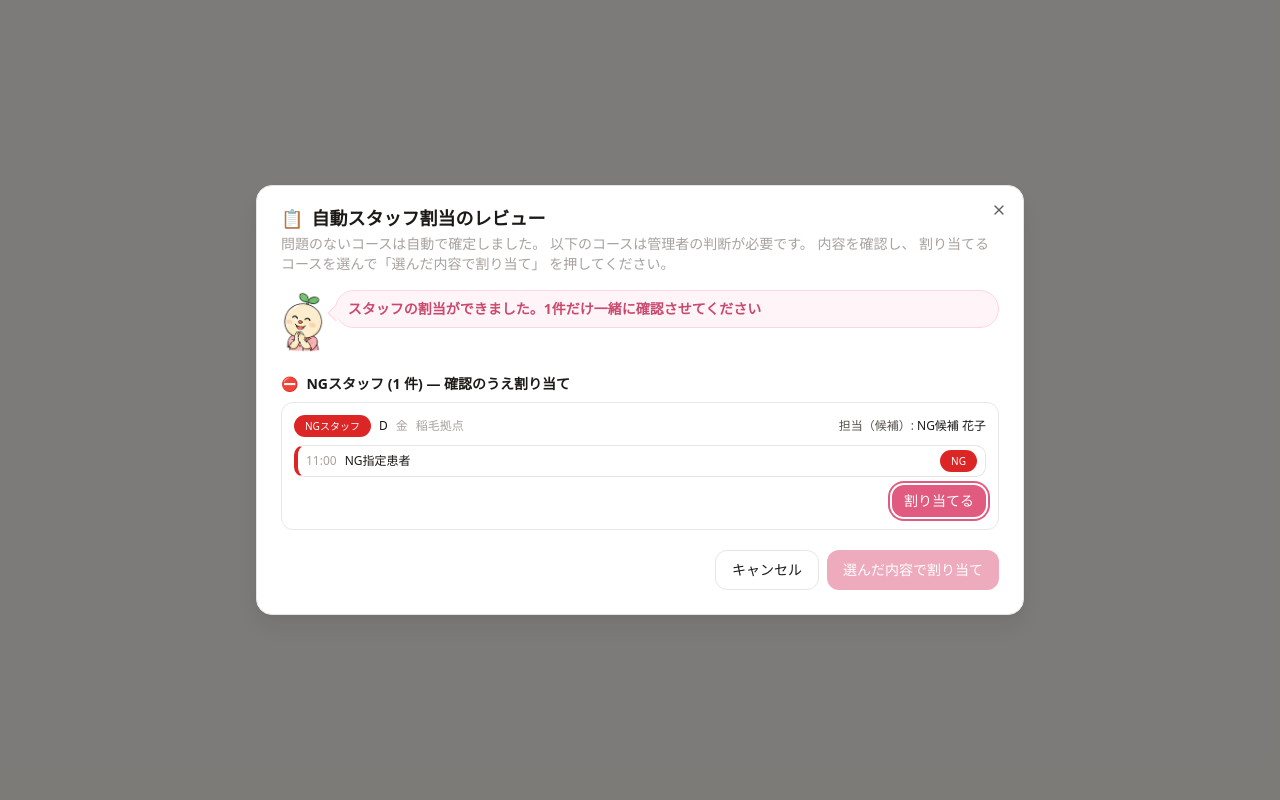
Test case: AssignWarningDialog — ⛔ NG スタッフセクション › ⛔ NG カードの also_violates に gender があると確認文言に性別も併記される
The image size is (1280, 800).
Click the button with test id "assign-review-ng-approve" at (939, 501), box 892,485 -> 986,517
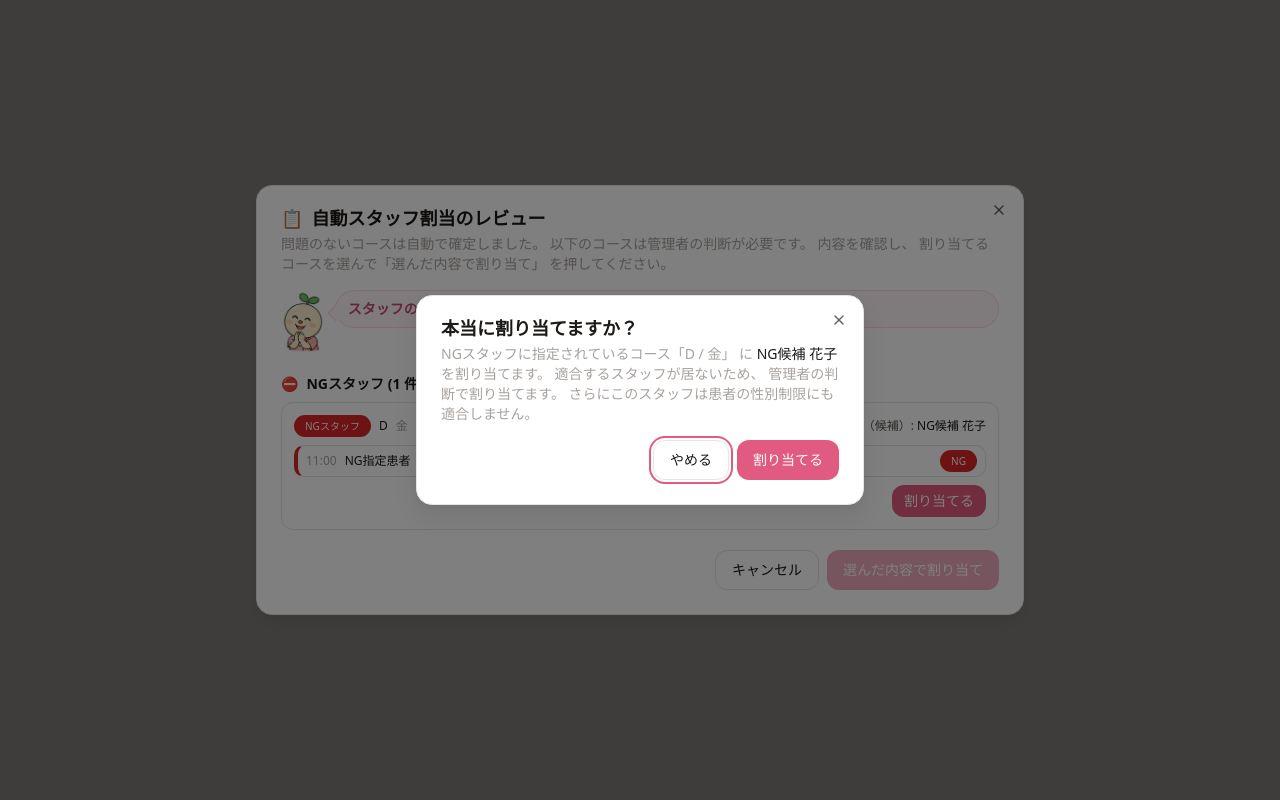
Result: the dialog with test id "assign-review-ng-confirm" shows "さらにこのスタッフは患者の性別制限にも適合しません" at 441,384 -> 834,423
